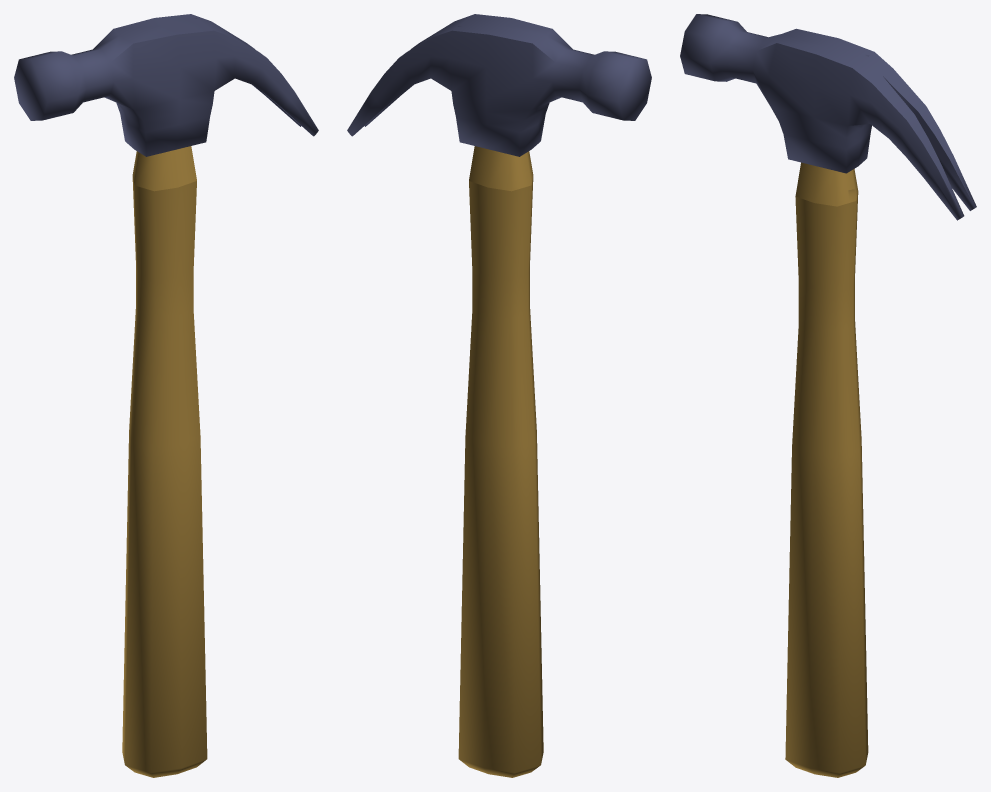
Rendered from assetHammerModern.fbx.
3 views of the same model, side by side, from view 1: azimuth 30°, elevation 25°; view 2: azimuth 150°, elevation 25°; view 3: azimuth 330°, elevation 25° (orthographic). The views are drawn at different scales.
Visible parts, largest first — view 1: Cylinder; view 2: Cylinder; view 3: Cylinder.
Part boxes in pixels (x1,y1,x2,y2): Cylinder: (14,14,318,777); Cylinder: (347,14,651,777); Cylinder: (680,14,976,777).
Size of the model in its own units: 13.24 by 33.34 by 2.8.
Materials: 1 (1 with a texture image).
